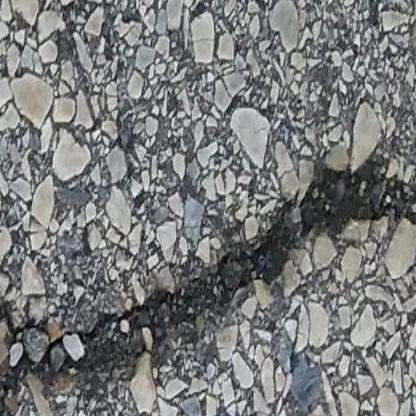Cracks: (0, 152, 416, 416)
